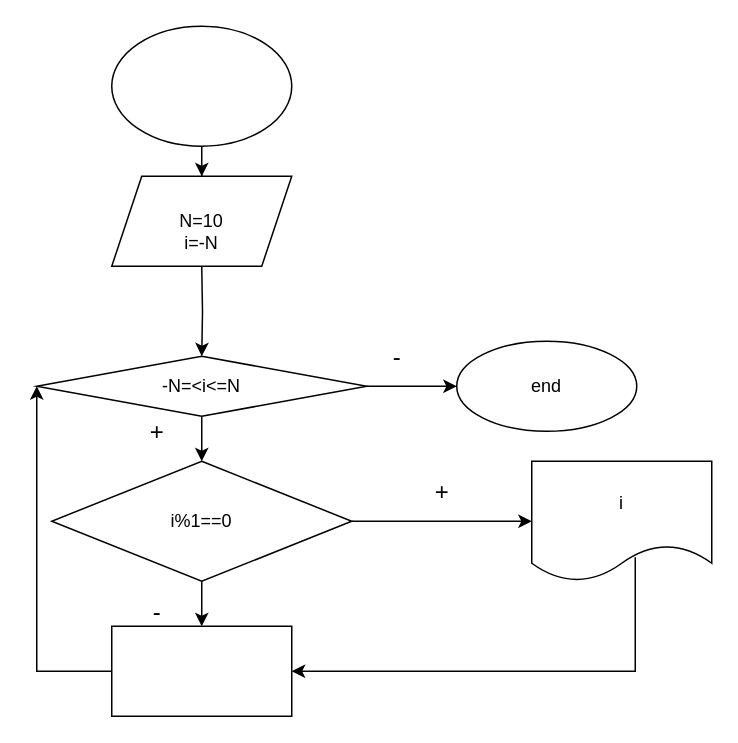
Image size: 738x743. Some labels were removed from this diagram. The shapes that lost their labels are listed below. From the top down, each one's centre as x and y in pixels, then its label:
At [201,85]: "start".
At [201,670]: "i++".
